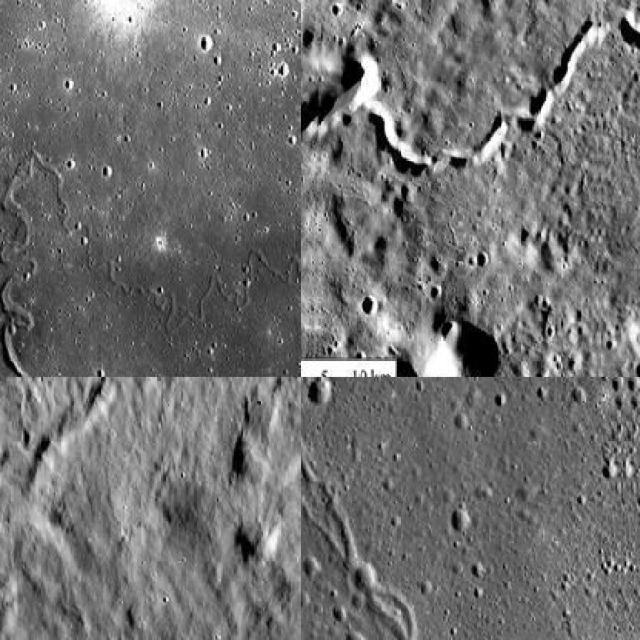rille: (0, 150, 298, 375), (299, 0, 638, 175), (0, 376, 278, 549), (300, 422, 497, 638)
